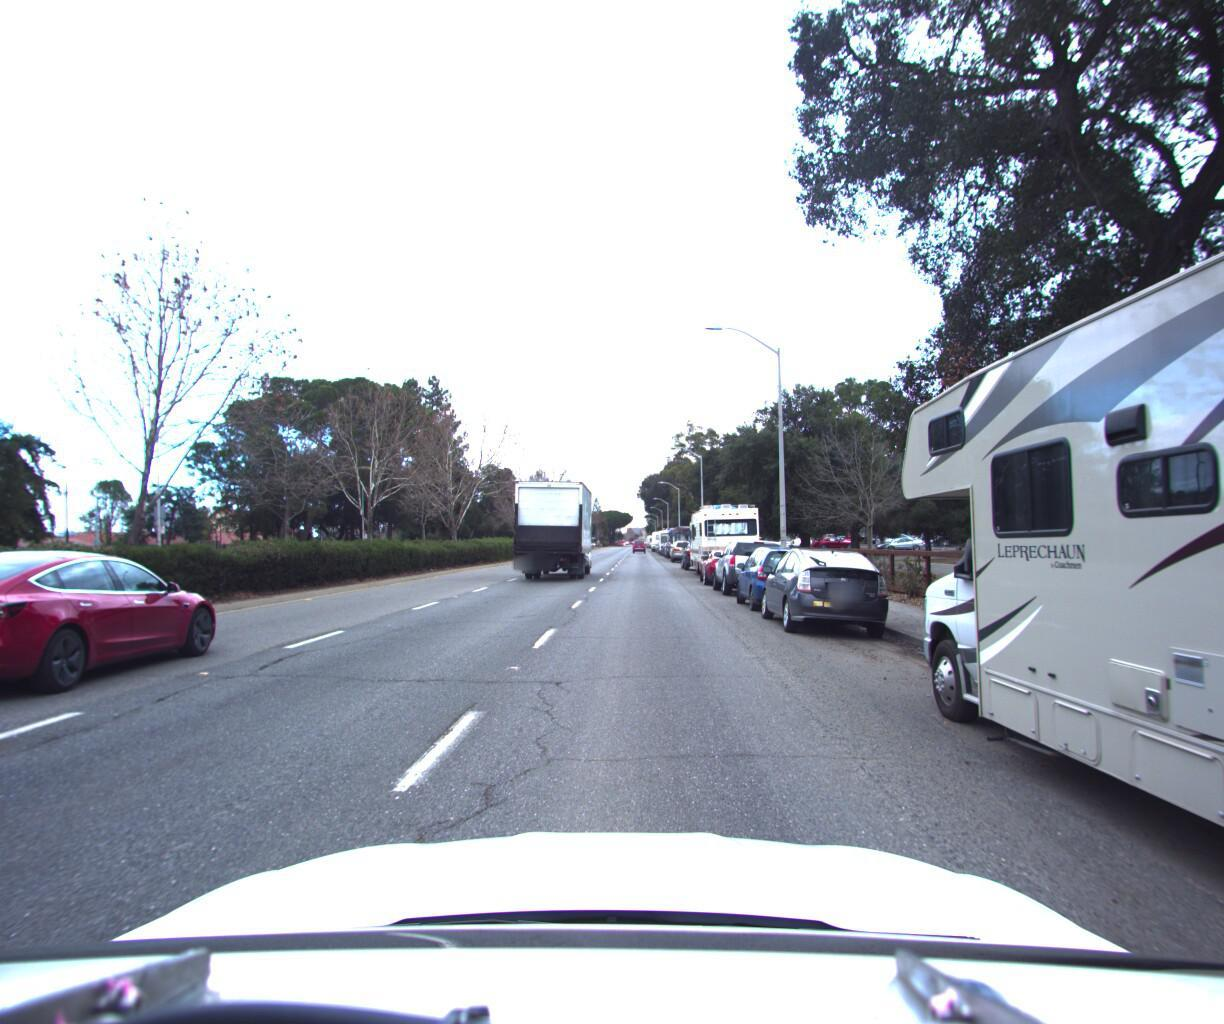car: (0, 536, 235, 709), (756, 540, 899, 642), (731, 539, 832, 617), (709, 532, 792, 600), (698, 542, 761, 587), (680, 533, 721, 569), (669, 534, 697, 559)
other_vehicle: (872, 0, 1224, 1024), (685, 493, 764, 580), (666, 520, 702, 558)
truck: (504, 464, 600, 584)
